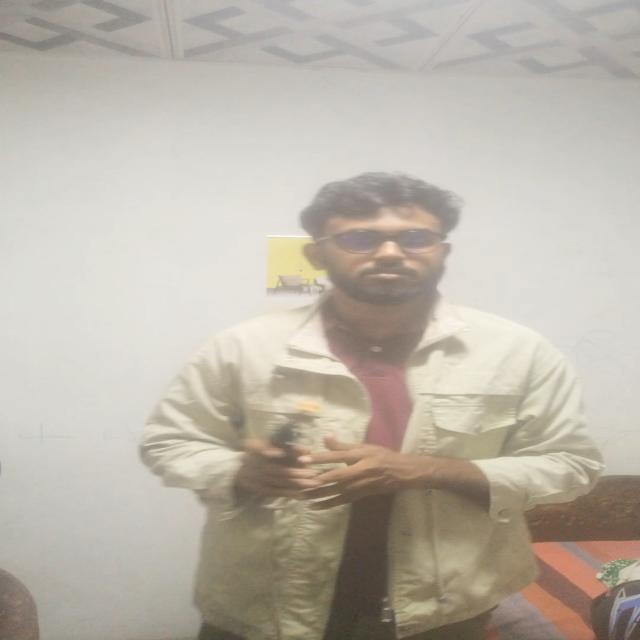Gun_Holder: (213, 402, 344, 501)
Jacket_Wearer: (142, 302, 604, 636)
Person: (152, 171, 601, 640)
